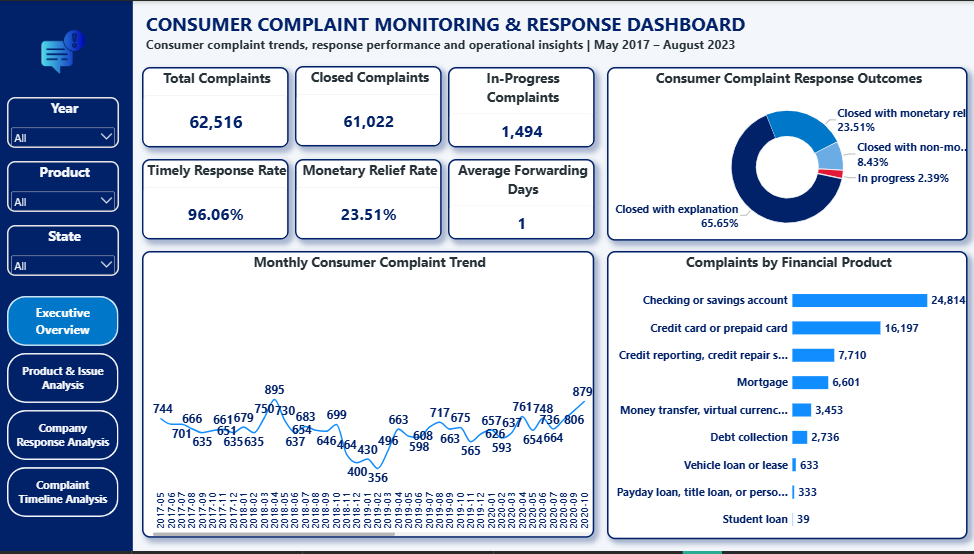

This screenshot's page, from the dashboard's own definition file:
{"tool":"powerbi","page":{"name":"Executive Overview","canvas":[1920,1080],"ordinal":0},"visuals":[{"type":"textbox","box":[289.6,0,1348.8,101.9],"z":0},{"type":"cardVisual","title":"Total Complaints","fields":{"Data":["consumer_complaints_analytics complaints.Total Complaints"]},"box":[281.6,128.7,288,158.2],"z":1000},{"type":"cardVisual","title":"Closed Complaints","fields":{"Data":["consumer_complaints_analytics complaints.Closed Complaints"]},"box":[581.9,128,288,158.2],"z":2000},{"type":"cardVisual","title":"In-Progress Complaints","fields":{"Data":["consumer_complaints_analytics complaints.In-Progress Complaints"]},"box":[882.2,128.7,288,158.2],"z":3000},{"type":"cardVisual","title":"Timely Response Rate","fields":{"Data":["consumer_complaints_analytics complaints.Timely Response Rate"]},"box":[281.6,311.1,288,158],"z":4000},{"type":"cardVisual","title":"Monetary Relief Rate","fields":{"Data":["consumer_complaints_analytics complaints.Monetary Relief Rate"]},"box":[581.9,311.1,288,158],"z":5000},{"type":"cardVisual","title":"Average Forwarding Days","fields":{"Data":["consumer_complaints_analytics complaints.Average Forwarding Interval"]},"box":[882.2,311.1,288,158],"z":6000},{"type":"lineChart","title":"Monthly Consumer Complaint Trend","fields":{"Category":["Date.Year-Month"],"Y":["KPI Measures.Total Complaints"]},"box":[281.6,490.7,887.6,563.1],"z":7000},{"type":"clusteredBarChart","title":"Complaints by Financial Product","fields":{"Category":["consumer_complaints_analytics complaints.Product"],"Y":["KPI Measures.Total Complaints"]},"box":[1193.3,490.7,707.9,565.8],"z":8000},{"type":"donutChart","title":"Consumer Complaint Response Outcomes","fields":{"Category":["consumer_complaints_analytics complaints.Company_Response_to_Consumer"],"Y":["KPI Measures.Total Complaints"]},"box":[1193.3,128.7,707.9,340.6],"z":9000},{"type":"shape","box":[0,0,262.8,1080.7],"z":10000},{"type":"slicer","title":"Year","fields":{"Values":["Date.Year"]},"box":[16.1,187.7,220,100],"z":11000},{"type":"slicer","title":"Product","fields":{"Values":["consumer_complaints_analytics complaints.Product"]},"box":[16.1,314.1,220,100],"z":12000},{"type":"slicer","title":"State","fields":{"Values":["consumer_complaints_analytics complaints.State"]},"box":[16.1,439.8,220,100],"z":13000},{"type":"pageNavigator","box":[16.1,579.2,219.9,437.1],"z":14000},{"type":"image","box":[74.9,50.7,100,100],"z":14001}]}

Visuals, with their boxes in screenshot pixels (x1, y1, x2, y2), scaled from the page's 1920x1080 canvas onto the 974x554 screenshot:
textbox: select_region(147, 0, 831, 52)
"Total Complaints" cardVisual: select_region(143, 66, 289, 147)
"Closed Complaints" cardVisual: select_region(295, 66, 441, 147)
"In-Progress Complaints" cardVisual: select_region(448, 66, 594, 147)
"Timely Response Rate" cardVisual: select_region(143, 160, 289, 241)
"Monetary Relief Rate" cardVisual: select_region(295, 160, 441, 241)
"Average Forwarding Days" cardVisual: select_region(448, 160, 594, 241)
"Monthly Consumer Complaint Trend" lineChart: select_region(143, 252, 593, 541)
"Complaints by Financial Product" clusteredBarChart: select_region(605, 252, 964, 542)
"Consumer Complaint Response Outcomes" donutChart: select_region(605, 66, 964, 241)
shape: select_region(0, 0, 133, 553)
"Year" slicer: select_region(8, 96, 120, 148)
"Product" slicer: select_region(8, 161, 120, 212)
"State" slicer: select_region(8, 226, 120, 277)
pageNavigator: select_region(8, 297, 120, 521)
image: select_region(38, 26, 89, 77)
